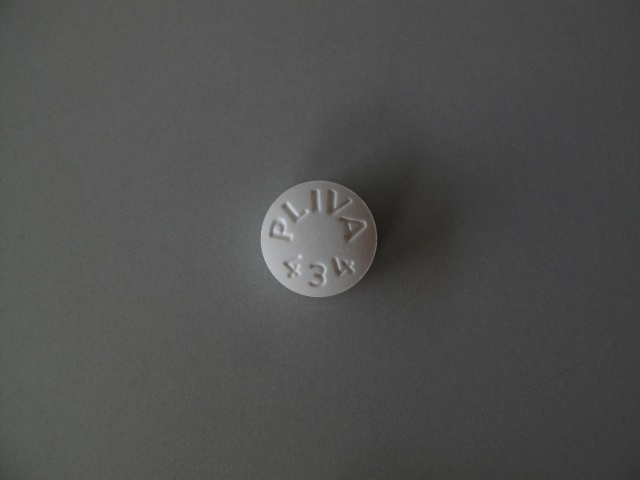3: (307, 259, 326, 291)
4: (328, 254, 359, 278), (281, 254, 303, 281)
A: (337, 215, 366, 246)
I: (310, 186, 322, 216)
L: (277, 196, 309, 219)
P: (262, 217, 296, 245)
V: (325, 186, 350, 220)
